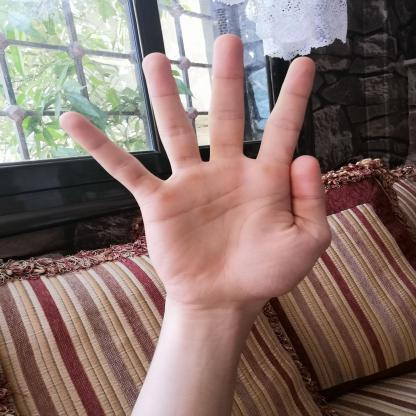SHEEN: (43, 23, 355, 318)
